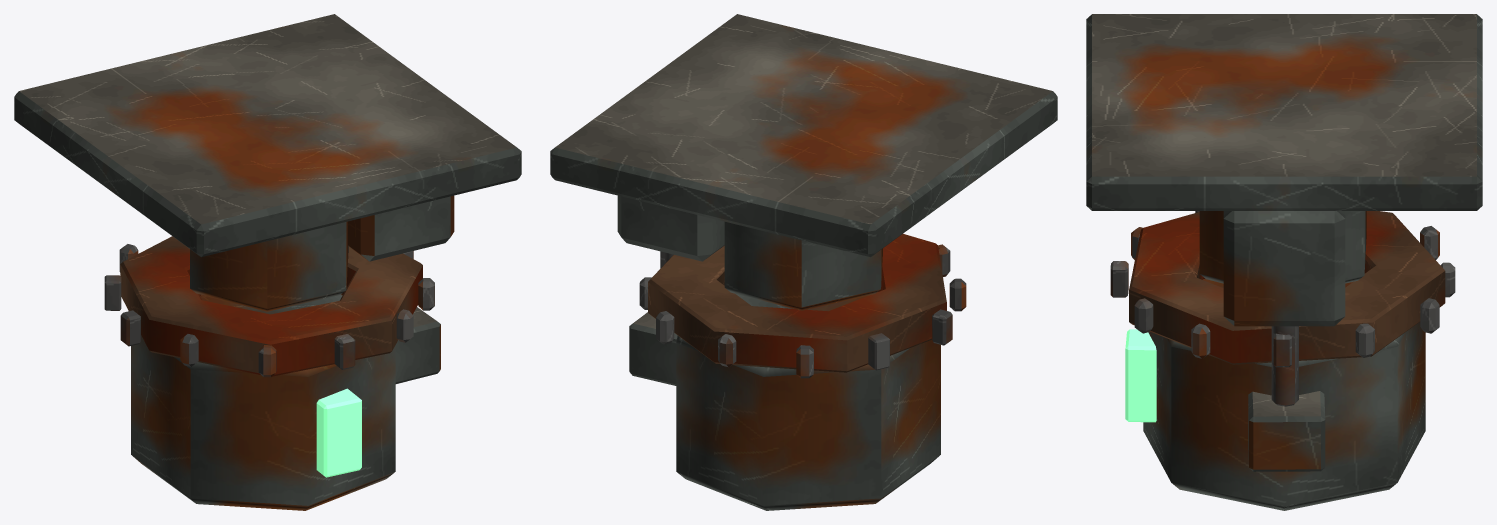
The model's file is R4X_IndependentSteering_LOD1.glb.
The picture shows the model from 3 angles, left to right: view 1: azimuth 30°, elevation 25°; view 2: azimuth 150°, elevation 25°; view 3: azimuth 270°, elevation 25°; orthographic projection. The views are drawn at different scales.
Visible parts, largest first — view 1: R4X_IndependentSteering_LOD1; view 2: R4X_IndependentSteering_LOD1; view 3: R4X_IndependentSteering_LOD1.
Boxes of the visible parts, left/top/right/bottom form: R4X_IndependentSteering_LOD1: left=14, top=14, right=521, bottom=510; R4X_IndependentSteering_LOD1: left=550, top=14, right=1057, bottom=510; R4X_IndependentSteering_LOD1: left=1086, top=14, right=1482, bottom=510.
Size of the model in its own units: 0.52 by 0.52 by 0.52.
Materials: 5 (4 with a texture image).
